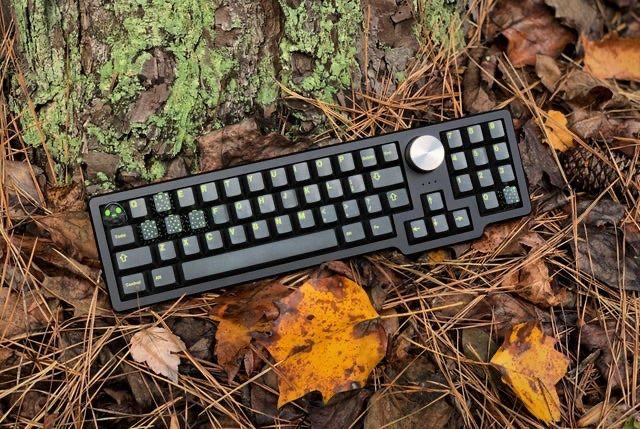keyboard: (87, 108, 532, 312)
